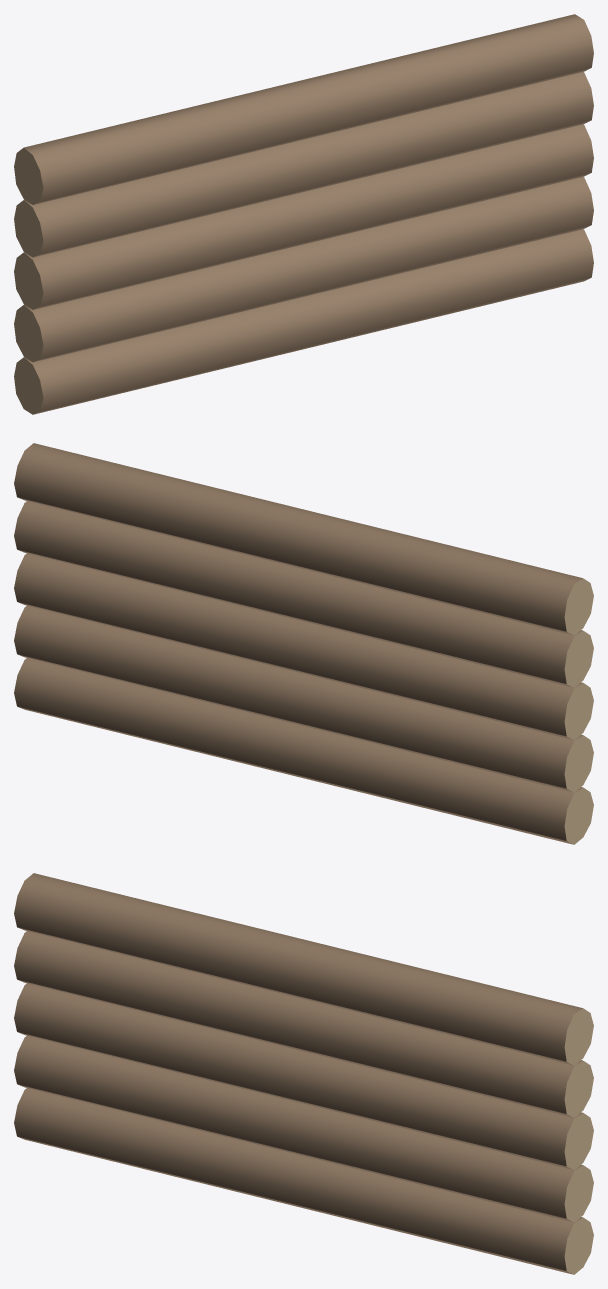
Rendered from log_wall_half.glb.
3 renders of one model, top to bottom at view 1: azimuth 30°, elevation 25°; view 2: azimuth 150°, elevation 25°; view 3: azimuth 330°, elevation 25°, orthographic.
Visible parts, largest first — view 1: Wall; view 2: Wall; view 3: Wall.
Part boxes in pixels (x1=…): Wall: x1=14, y1=14, x2=593, y2=414; Wall: x1=14, y1=443, x2=593, y2=844; Wall: x1=14, y1=873, x2=593, y2=1274.
Bounding box in the file's own units: 3.3 × 1.5 × 0.3129.
